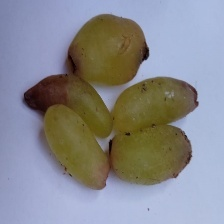grapes: (22, 22, 200, 194)
